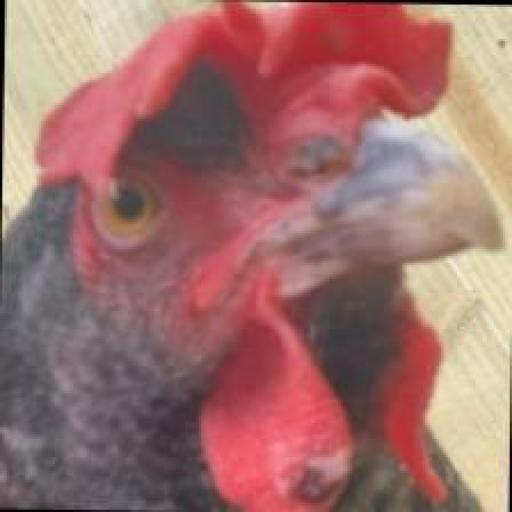disease: (266, 427, 360, 510)
